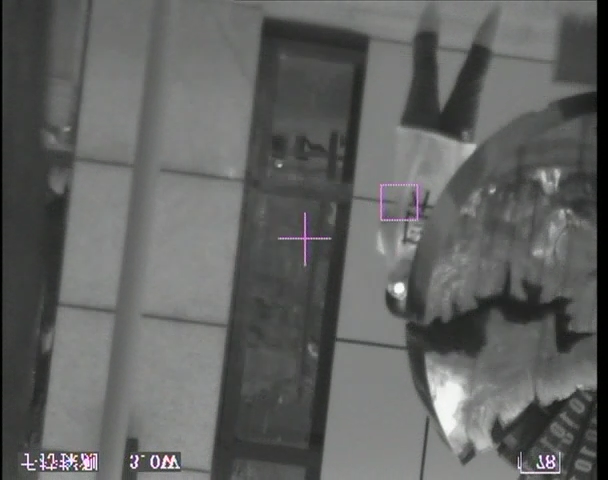my: (392, 281, 405, 294)
